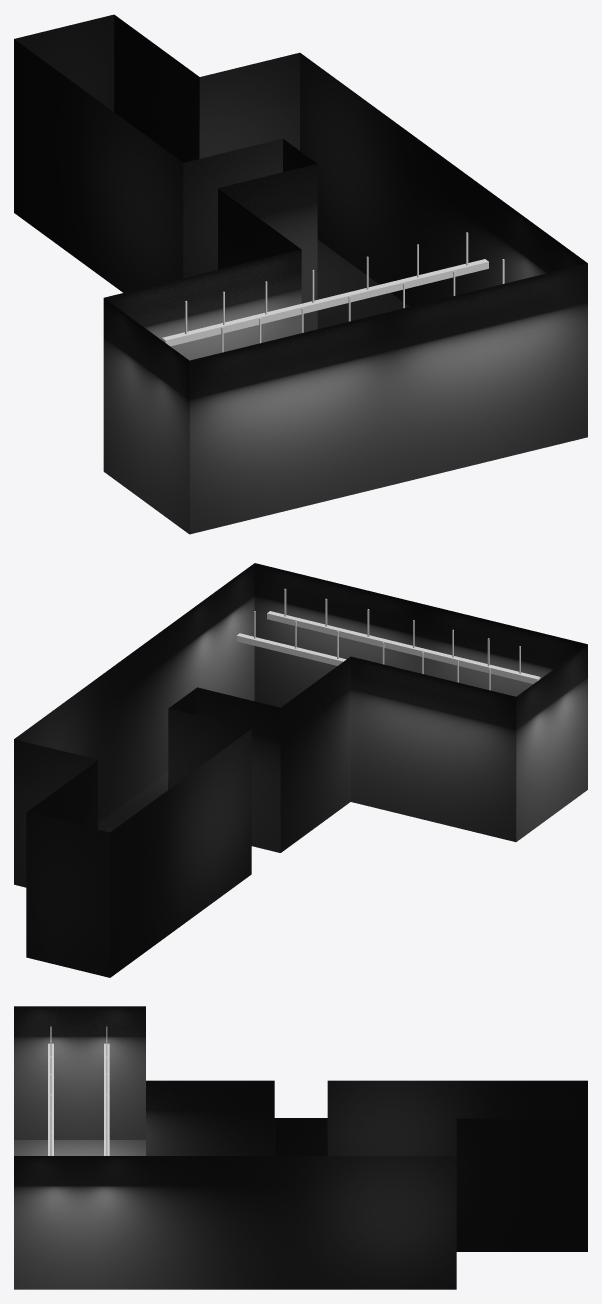
The model's file is photo.fbx.
The picture shows the model from 3 angles, top to bottom: view 1: azimuth 30°, elevation 25°; view 2: azimuth 150°, elevation 25°; view 3: azimuth 270°, elevation 25°; orthographic projection. The views are drawn at different scales.
Parts seen in each view (by area): view 1: Cube.003, Cube.001, Cube.002, Cube.004; view 2: Cube.001, Cube.003, Cube.019, Cube.002, Cube.004; view 3: Cube.003, Cube.001, Cube.004, Cube.019, Cube.002.
Part boxes in pixels (bbox=[...]): Cube.003: bbox=[14, 14, 587, 534]; Cube.001: bbox=[14, 39, 317, 534]; Cube.002: bbox=[162, 232, 488, 346]; Cube.004: bbox=[317, 240, 409, 328]; Cube.001: bbox=[110, 644, 587, 977]; Cube.003: bbox=[14, 563, 587, 977]; Cube.019: bbox=[267, 588, 540, 683]; Cube.002: bbox=[236, 611, 490, 690]; Cube.004: bbox=[98, 772, 168, 832]; Cube.003: bbox=[14, 1118, 587, 1289]; Cube.001: bbox=[14, 1006, 587, 1155]; Cube.004: bbox=[14, 1140, 145, 1155]; Cube.019: bbox=[48, 1026, 53, 1155]; Cube.002: bbox=[104, 1026, 109, 1155].
Size of the model in its own units: 1199 by 504 by 1946.
3 materials, 3 textured.
